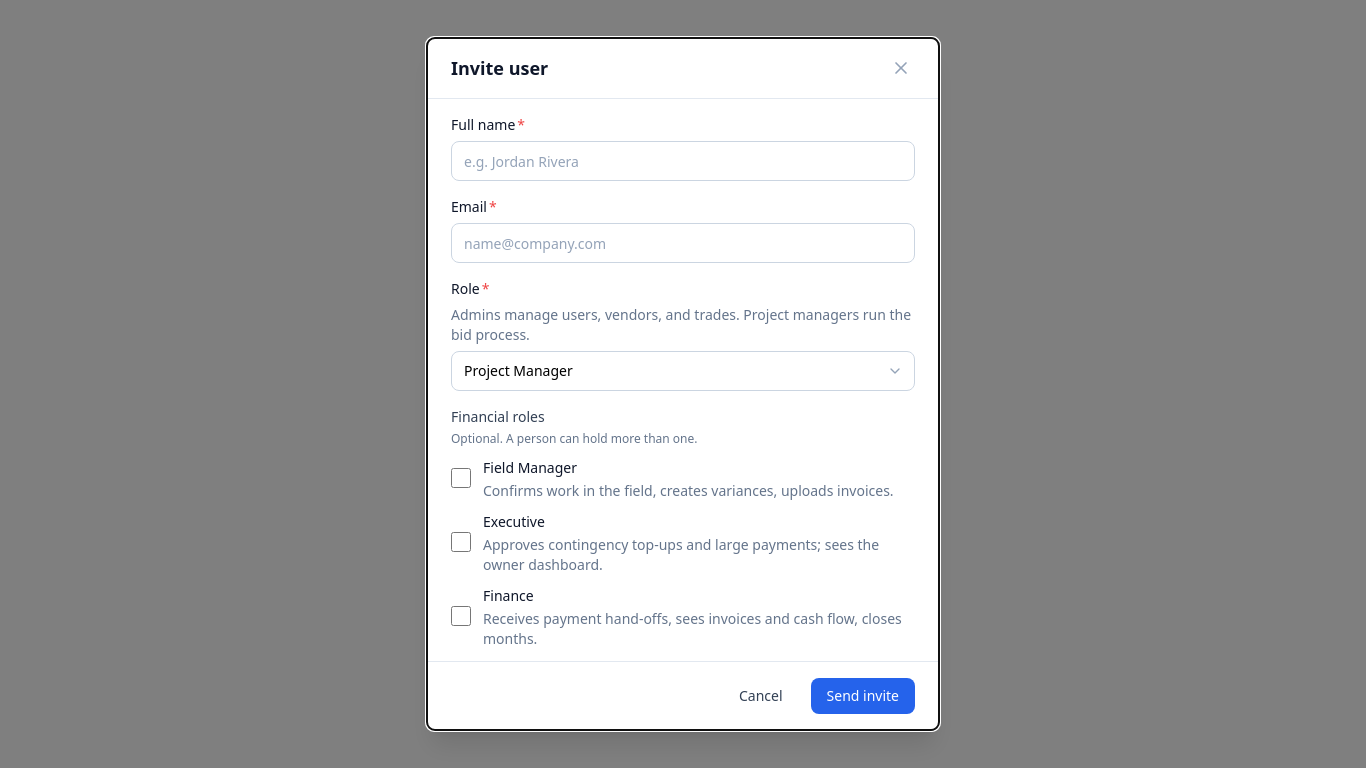
Scenario: InviteUserModal › surfaces the server 409 detail and keeps the modal open
Step 1. Type "Dupe Person" into the field labelled "Full name*" → (683, 161), box [451,141,915,181]
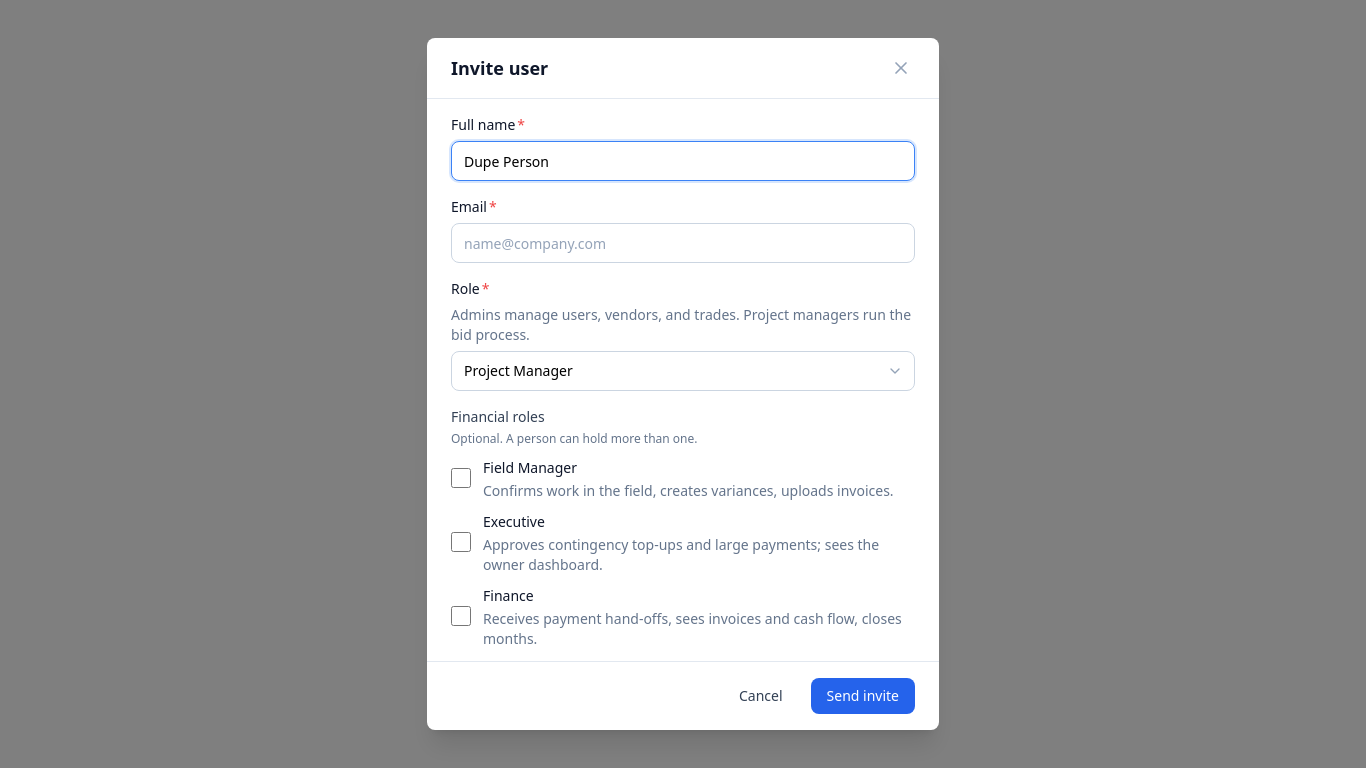
Step 2. Type "dupe@bluonx.dev" into the field labelled "Email*" → (683, 243), box [451,223,915,263]
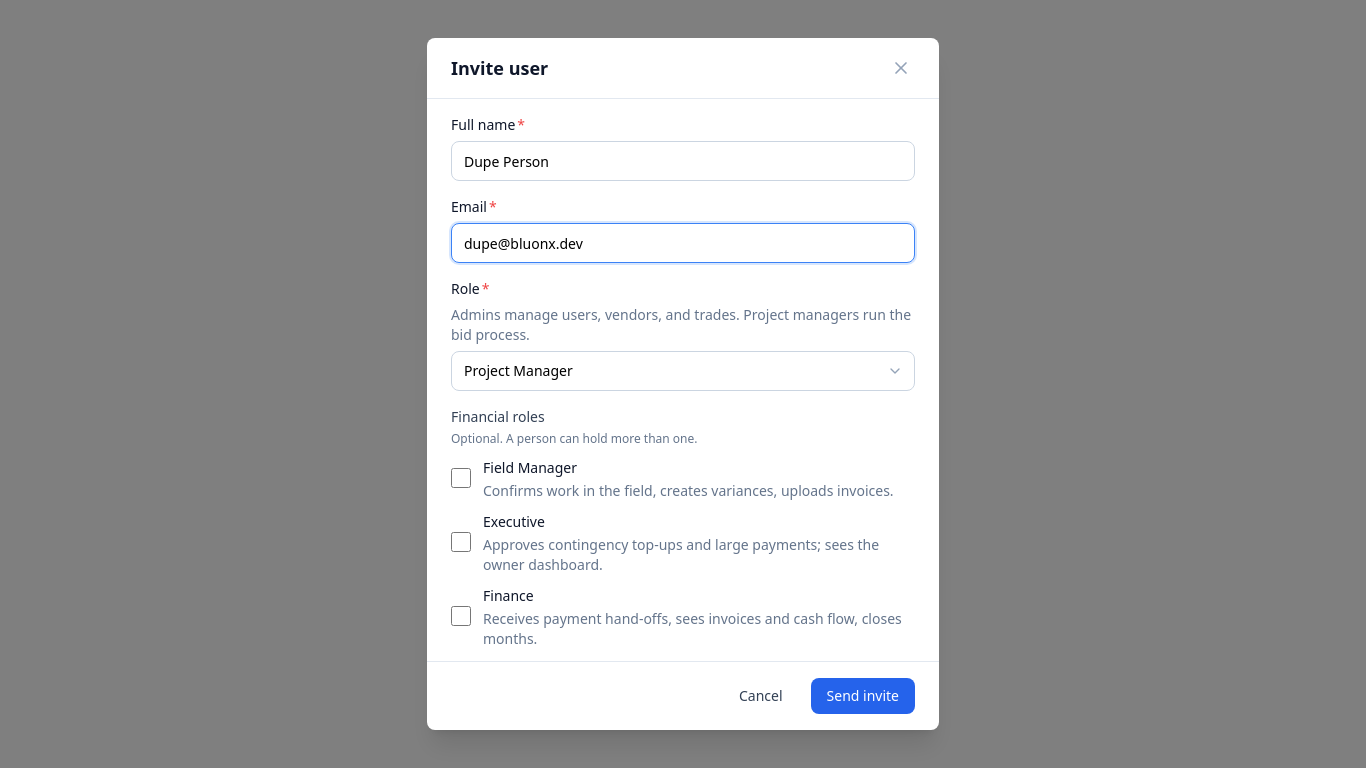
Step 3. Click the button "Send invite" → click(863, 696), box [811,678,915,714]
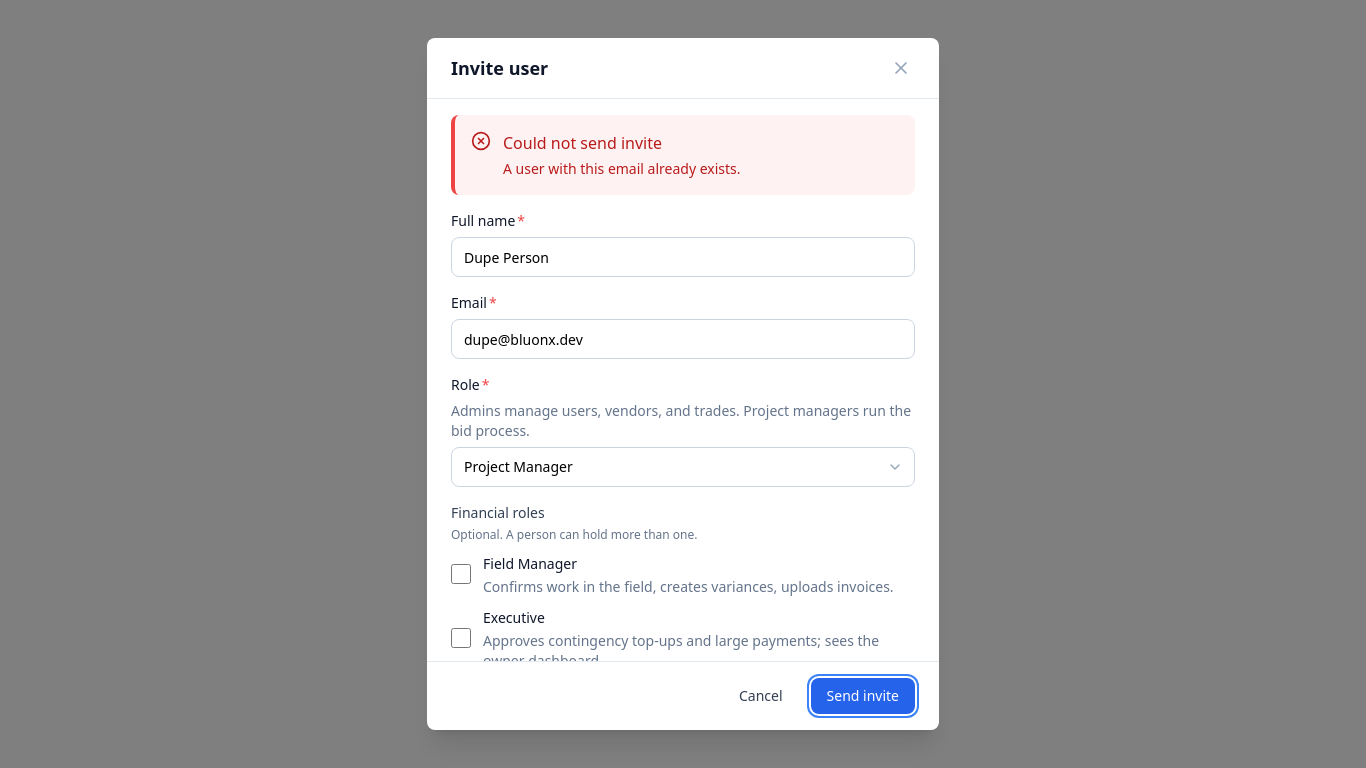
Check: the text "A user with this email already exists." is shown, box [503,159,741,178]
